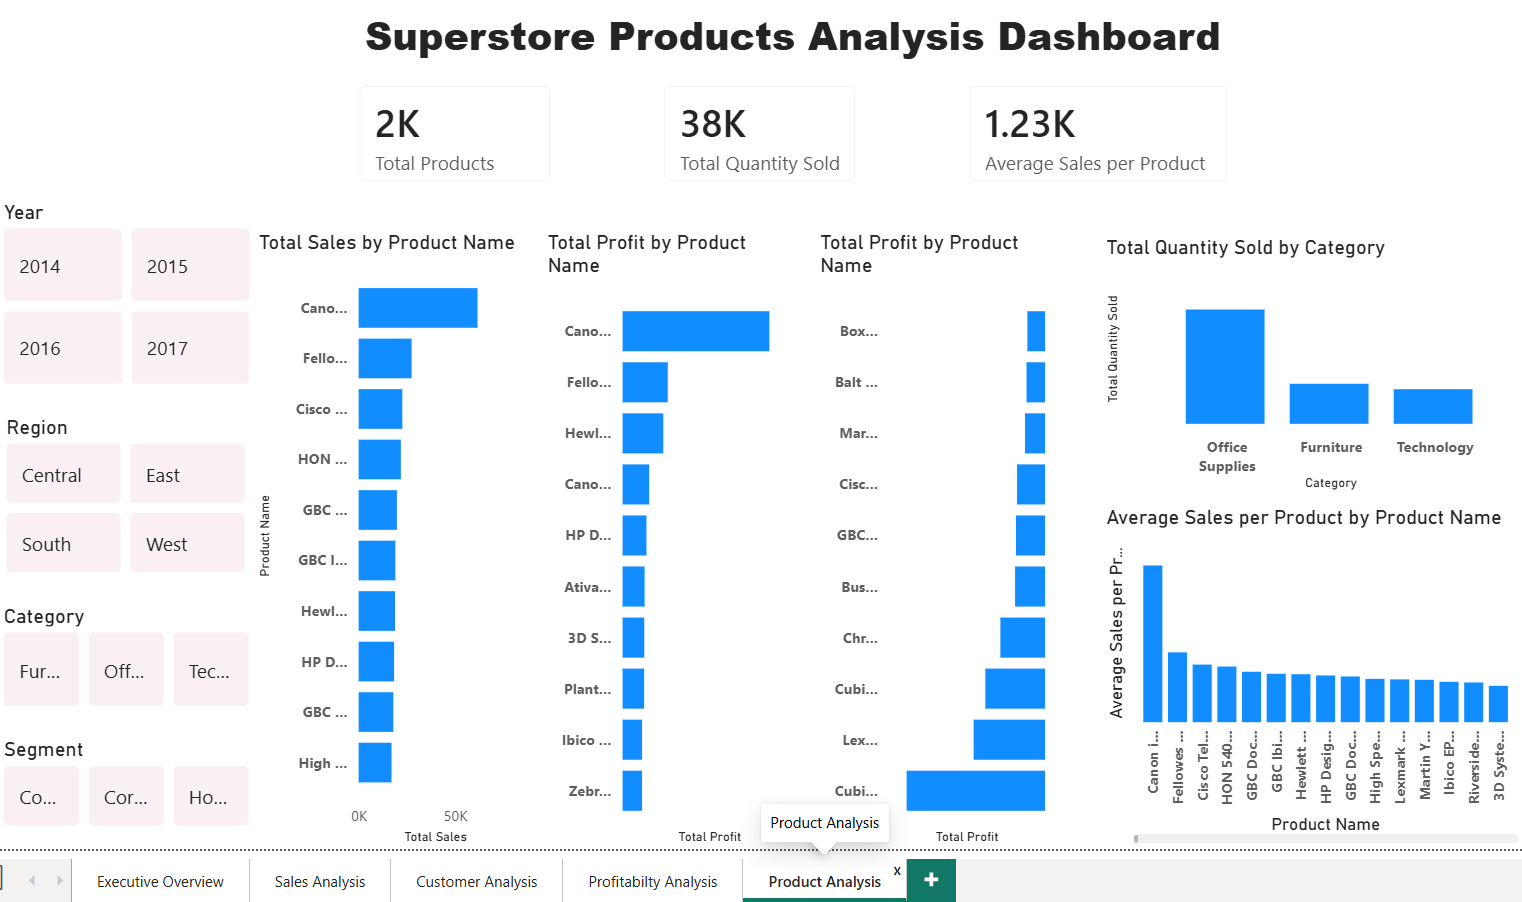

This screenshot's page, from the dashboard's own definition file:
{"tool":"powerbi","page":{"name":"Product Analysis","canvas":[1280,720],"ordinal":4},"visuals":[{"type":"cardVisual","fields":{"Data":["Measures (2).Total Products"]},"box":[286,63,194,114],"z":0},{"type":"cardVisual","fields":{"Data":["Measures (2).Average Sales per Product"]},"box":[798.3,63,250.2,114],"z":1000},{"type":"cardVisual","fields":{"Data":["Measures (2).Total Quantity Sold"]},"box":[542.1,63,194,114],"z":2000},{"type":"clusteredBarChart","fields":{"Y":["Measures (2).Total Sales"],"Category":["Dim_Product.Product Name"]},"box":[214.1,199.9,233.3,520.1],"z":3000},{"type":"clusteredBarChart","fields":{"Y":["Measures (2).Total Profit"],"Category":["Dim_Product.Product Name"]},"box":[456,199.9,219.6,520.1],"z":4000},{"type":"clusteredBarChart","fields":{"Category":["Dim_Product.Product Name"],"Y":["Measures (2).Total Profit"]},"box":[684.3,199.9,199,520.1],"z":5000},{"type":"clusteredColumnChart","fields":{"Y":["Measures (2).Total Quantity Sold"],"Category":["Dim_Product.Category"]},"box":[924.3,204.3,355.7,219.6],"z":6000},{"type":"columnChart","fields":{"Y":["Measures (2).Average Sales per Product"],"Category":["Fact_sales.Product Name"]},"box":[924.3,430.6,355.7,289.4],"z":7000},{"type":"advancedSlicerVisual","fields":{"Values":["Dim_Customer.Segment"]},"box":[0,626.4,217.9,80],"z":8000},{"type":"advancedSlicerVisual","fields":{"Values":["Dim_Location.Region"]},"box":[2.3,355.7,211.1,137.9],"z":9000},{"type":"advancedSlicerVisual","fields":{"Values":["Dim_Product.Category"]},"box":[0,514,217.9,91.9],"z":10000},{"type":"advancedSlicerVisual","fields":{"Values":["Fact_sales.Ship Date.Variation.Date Hierarchy.Year"]},"box":[17.8,214.1,193.5,124.9],"z":11000},{"type":"textbox","box":[100.2,9.6,1132.1,60.4],"z":12000},{"type":"advancedSlicerVisual","fields":{"Values":["Dim_Date.Order Date.Variation.Date Hierarchy.Year"]},"box":[0,175.3,217.9,160],"z":13000}]}

Visuals, with their boxes on the page's 1280x720 design canvas (x1, y1, x2, y2). These are canvas units, not pixel positions in the 1522x902 screenshot, which may show the page scaled, cropped or inside an application window:
cardVisual - Measures (2).Total Products: detection(286, 63, 480, 177)
cardVisual - Measures (2).Average Sales per Product: detection(798, 63, 1048, 177)
cardVisual - Measures (2).Total Quantity Sold: detection(542, 63, 736, 177)
clusteredBarChart - Measures (2).Total Sales x Dim_Product.Product Name: detection(214, 200, 447, 720)
clusteredBarChart - Measures (2).Total Profit x Dim_Product.Product Name: detection(456, 200, 676, 720)
clusteredBarChart - Dim_Product.Product Name x Measures (2).Total Profit: detection(684, 200, 883, 720)
clusteredColumnChart - Measures (2).Total Quantity Sold x Dim_Product.Category: detection(924, 204, 1280, 424)
columnChart - Measures (2).Average Sales per Product x Fact_sales.Product Name: detection(924, 431, 1280, 720)
advancedSlicerVisual - Dim_Customer.Segment: detection(0, 626, 218, 706)
advancedSlicerVisual - Dim_Location.Region: detection(2, 356, 213, 494)
advancedSlicerVisual - Dim_Product.Category: detection(0, 514, 218, 606)
advancedSlicerVisual - Fact_sales.Ship Date.Variation.Date Hierarchy.Year: detection(18, 214, 211, 339)
textbox: detection(100, 10, 1232, 70)
advancedSlicerVisual - Dim_Date.Order Date.Variation.Date Hierarchy.Year: detection(0, 175, 218, 335)
